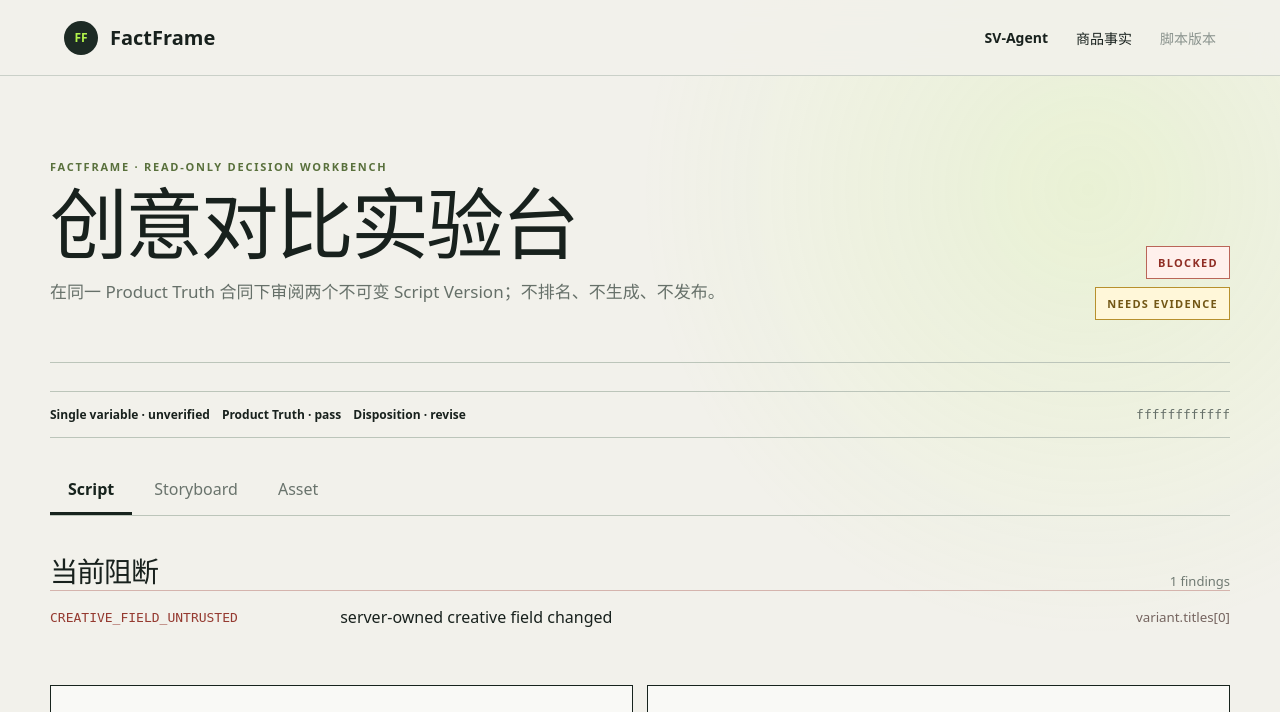
Test: script versions › switches comparison lenses without another API request
The image size is (1280, 712).
Click the button "Storyboard": click(196, 491) [136,466,256,515]
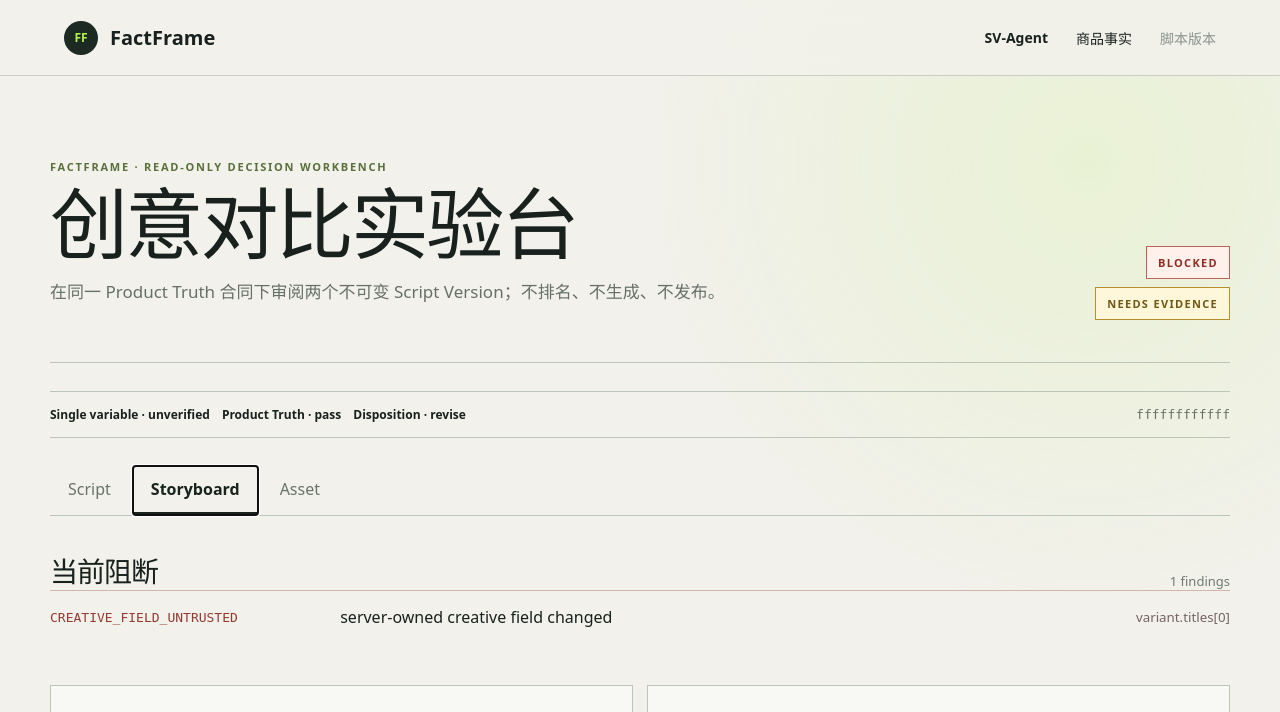
Click the button "Asset": click(300, 491) [262,466,338,515]
(page scrolled)
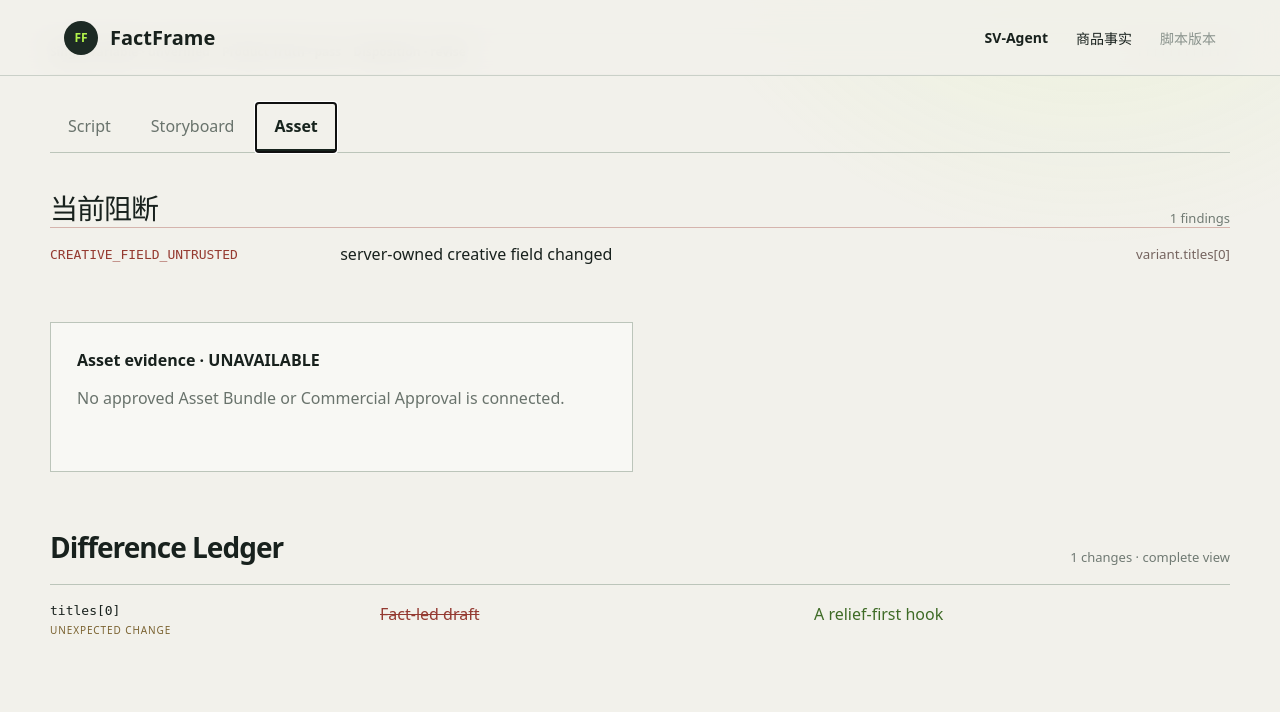
Now the text "Asset evidence · UNAVAILABLE" is shown, box [77,349,320,371]
